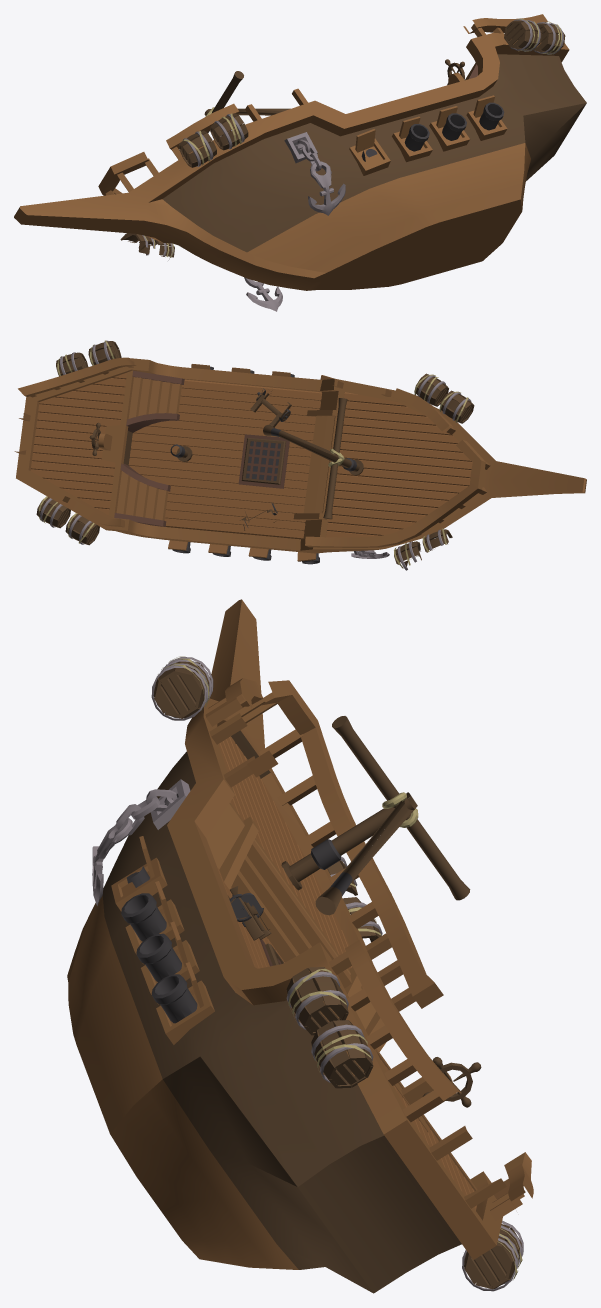
File: shipwreck.glb
3 views of the same model, one above another, from view 1: azimuth 30°, elevation 25°; view 2: azimuth 150°, elevation 25°; view 3: azimuth 270°, elevation 25° (orthographic). The views are drawn at different scales.
Parts seen in each view (by area): view 1: Ship_Large; view 2: Ship_Large; view 3: Ship_Large.
Part boxes in pixels (bbox=[...]): Ship_Large: bbox=[14, 14, 586, 311]; Ship_Large: bbox=[14, 340, 586, 570]; Ship_Large: bbox=[67, 599, 533, 1293].
Size of the model in its own units: 15.4 by 5.61 by 5.98.
Materials: 1 (1 with a texture image).
